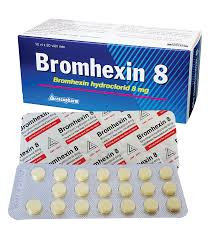Bromhexin: (32, 50, 146, 86), (97, 119, 123, 139), (139, 121, 173, 132), (48, 150, 83, 159), (56, 118, 78, 131), (96, 150, 121, 160), (21, 115, 55, 122), (17, 144, 41, 152), (137, 153, 150, 165)
